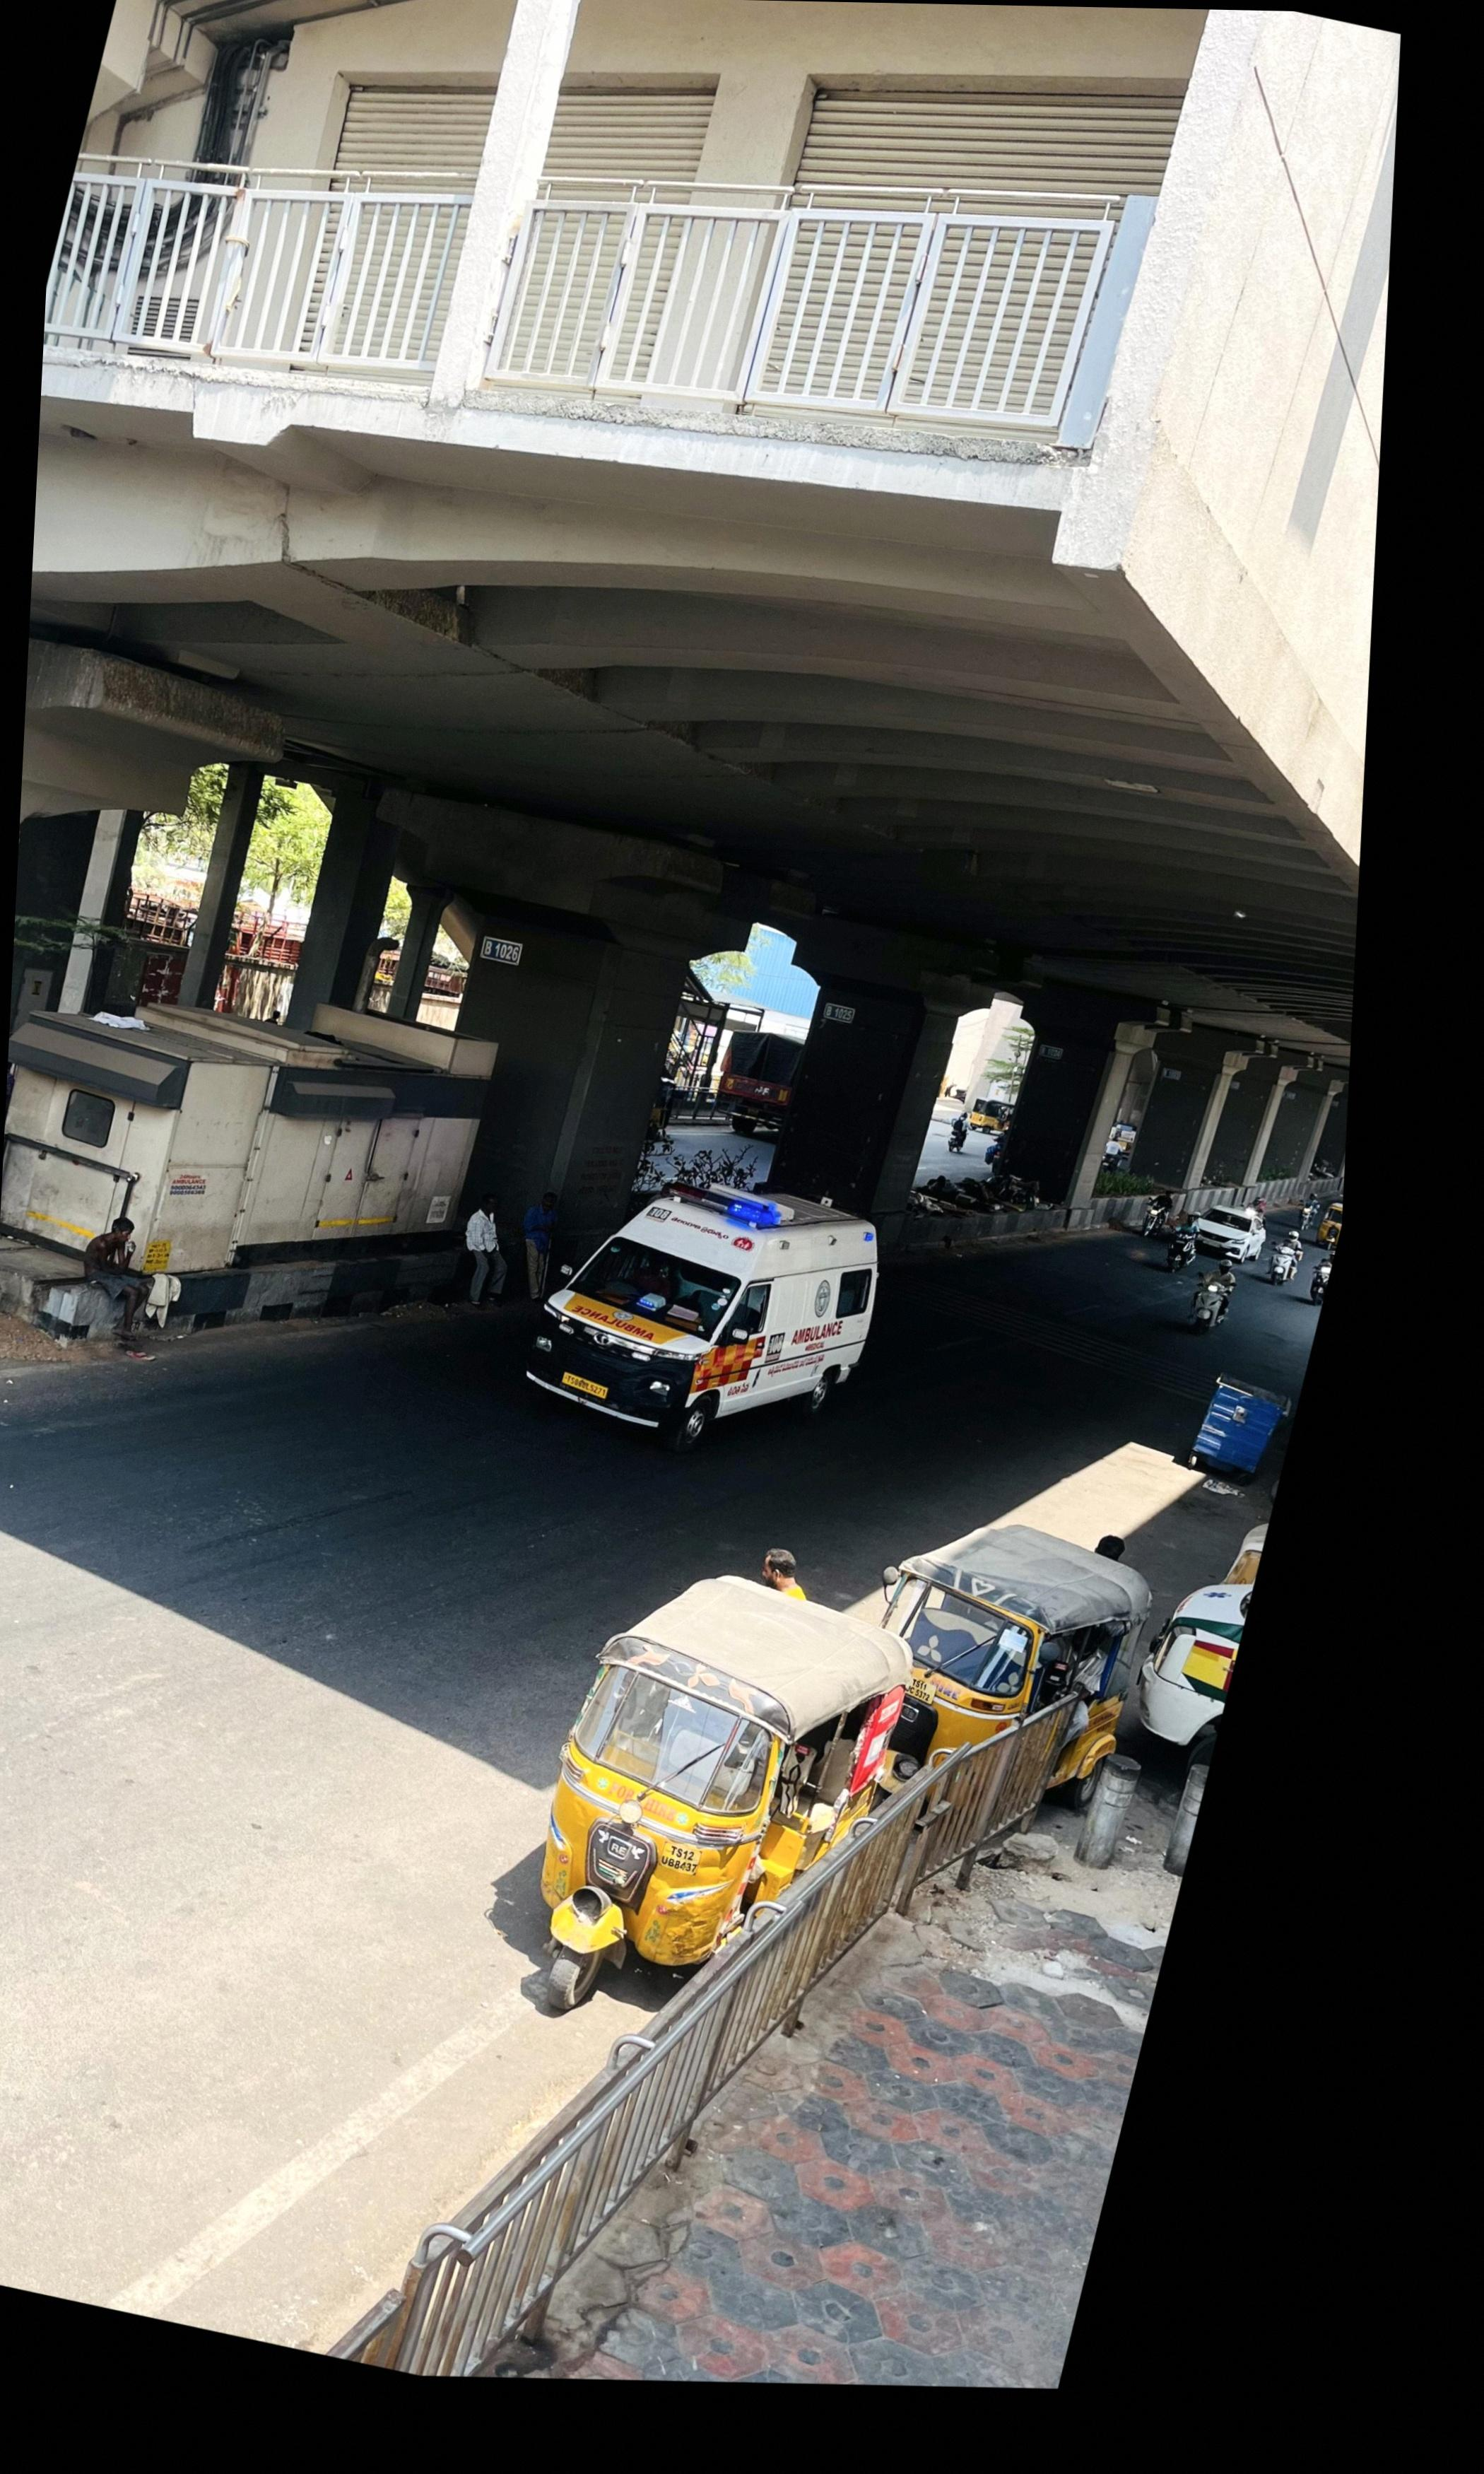ambulance: (517, 1178, 881, 1453)
